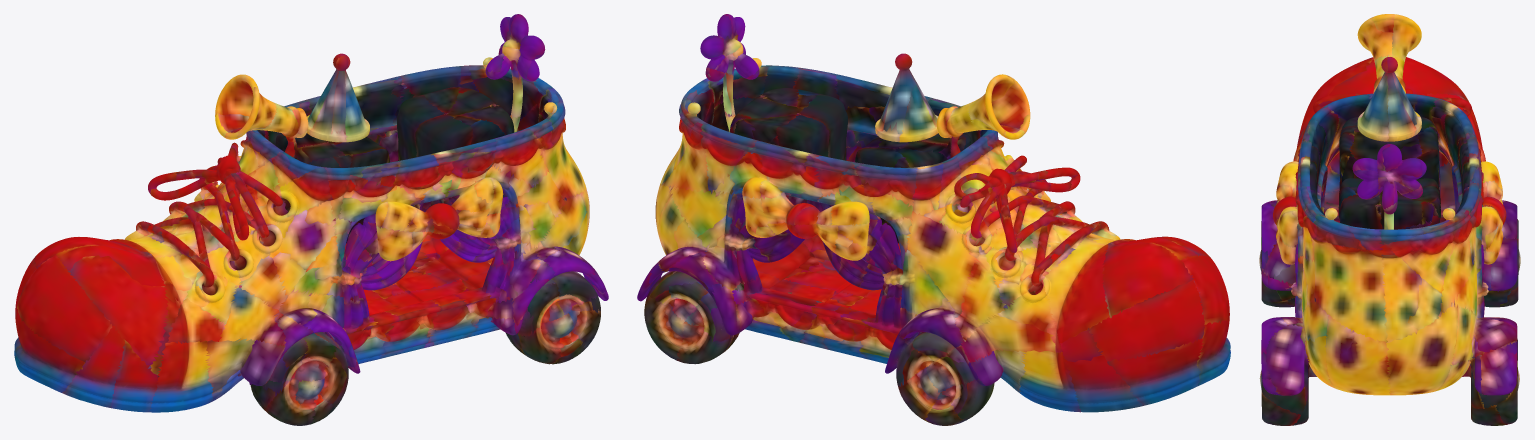
Rendered from clown-car.glb.
3 renders of one model, left to right at view 1: azimuth 30°, elevation 25°; view 2: azimuth 150°, elevation 25°; view 3: azimuth 270°, elevation 25°, orthographic. The views are drawn at different scales.
Parts seen in each view (by area): view 1: object 1, wheel_1, wheel_3; view 2: object 1, wheel_0, wheel_2; view 3: object 1, wheel_2, wheel_3, wheel_0, wheel_1.
Part boxes in pixels (left/top/right/bottom): object 1: left=14, top=14, right=608, bottom=423; wheel_1: left=250, top=339, right=348, bottom=425; wheel_3: left=524, top=279, right=600, bottom=363; object 1: left=637, top=14, right=1230, bottom=421; wheel_0: left=896, top=339, right=994, bottom=425; wheel_2: left=644, top=278, right=721, bottom=363; object 1: left=1259, top=14, right=1517, bottom=425; wheel_2: left=1465, top=339, right=1519, bottom=422; wheel_3: left=1259, top=350, right=1313, bottom=422; wheel_0: left=1508, top=219, right=1520, bottom=305; wheel_1: left=1259, top=221, right=1272, bottom=305.
Size of the model in its own units: 1.9 by 0.9923 by 0.809.
Materials: 1 (1 with a texture image).
